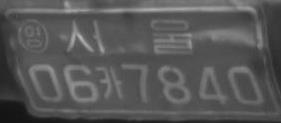0: (229, 65, 266, 106), (27, 63, 64, 103)
4: (195, 66, 229, 106)
6: (64, 63, 99, 103)
7: (123, 62, 150, 104)
8: (157, 63, 192, 105)
서울_D: (65, 17, 193, 56)
영: (17, 17, 49, 54)
카: (99, 65, 123, 100)
